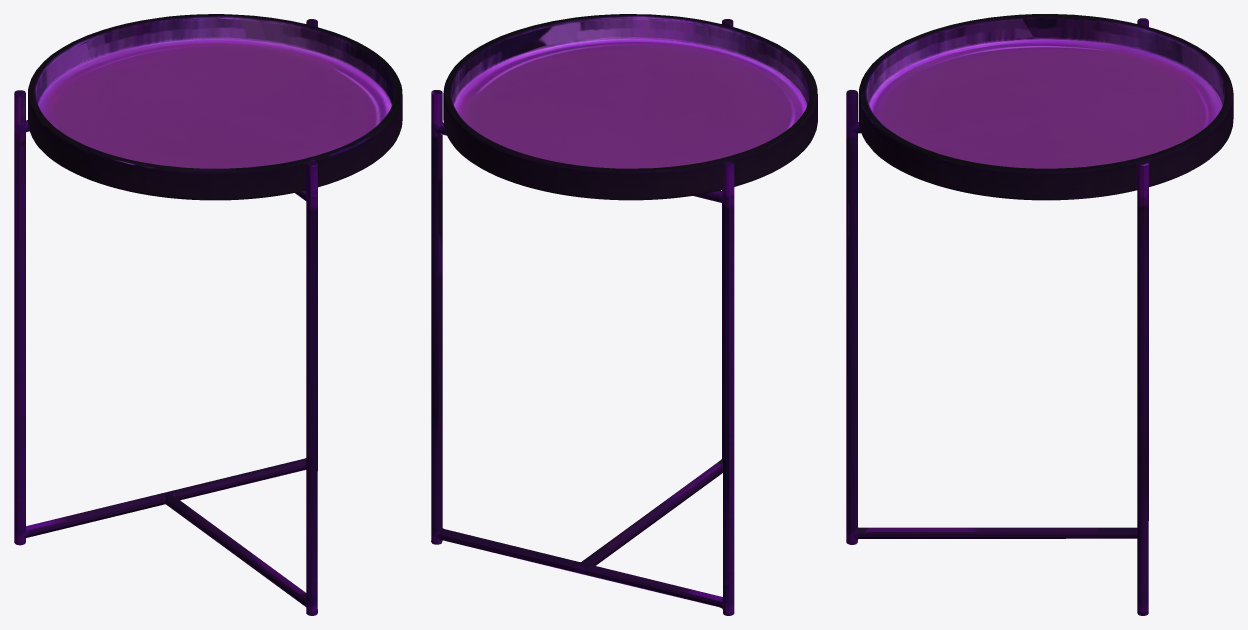
Rendered from edited_mesh.glb.
3 views of the same model, side by side, from view 1: azimuth 30°, elevation 25°; view 2: azimuth 150°, elevation 25°; view 3: azimuth 270°, elevation 25° (orthographic).
Parts seen in each view (by area): view 1: normalized_model.obj; view 2: normalized_model.obj; view 3: normalized_model.obj.
Part boxes in pixels (bbox=[...]): normalized_model.obj: bbox=[14, 14, 402, 615]; normalized_model.obj: bbox=[431, 14, 817, 615]; normalized_model.obj: bbox=[846, 14, 1233, 615].
Size of the model in its own units: 1.09 by 1.44 by 1.12.
Materials: 1 (1 with a texture image).
